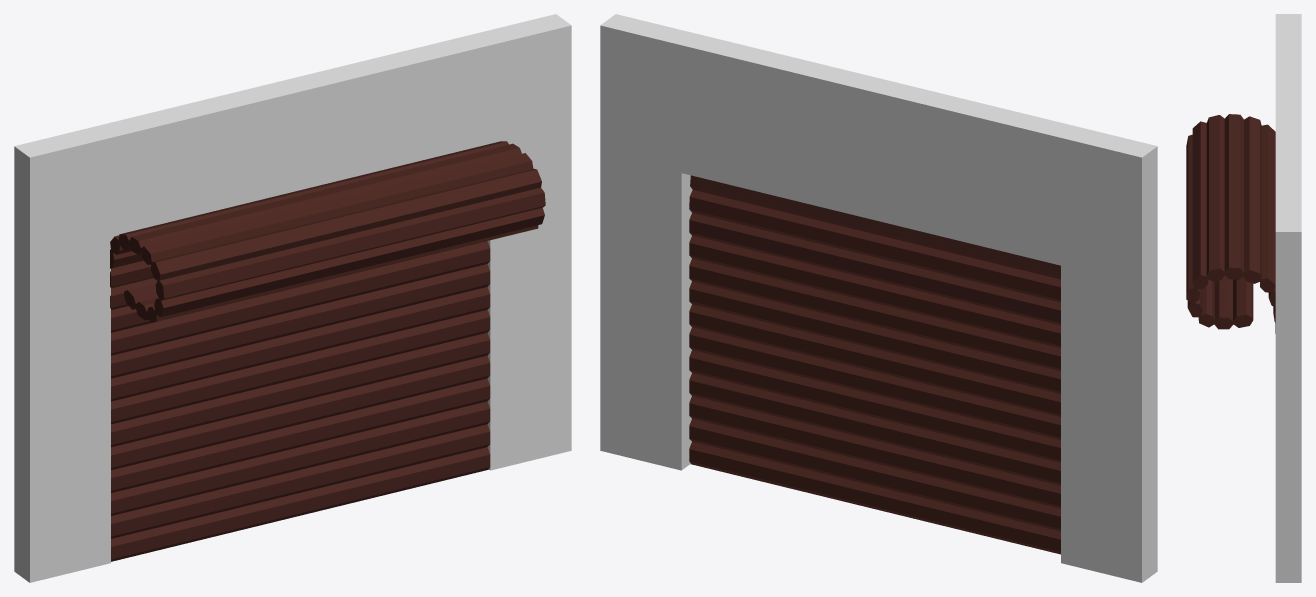
The model's file is garage_door.glb.
3 views of the same model, side by side, from view 1: azimuth 30°, elevation 25°; view 2: azimuth 150°, elevation 25°; view 3: azimuth 270°, elevation 25° (orthographic). The views are drawn at different scales.
Visible parts, largest first — view 1: Door, DoorOpening; view 2: DoorOpening, Door; view 3: Door, DoorOpening.
Boxes of the visible parts, bbox=[...] form: Door: bbox=[110, 141, 545, 561]; DoorOpening: bbox=[14, 14, 571, 582]; DoorOpening: bbox=[600, 14, 1157, 582]; Door: bbox=[689, 175, 1060, 554]; Door: bbox=[1186, 114, 1275, 333]; DoorOpening: bbox=[1275, 14, 1301, 582].
Size of the model in its own units: 4 by 3.01 by 0.8928.
